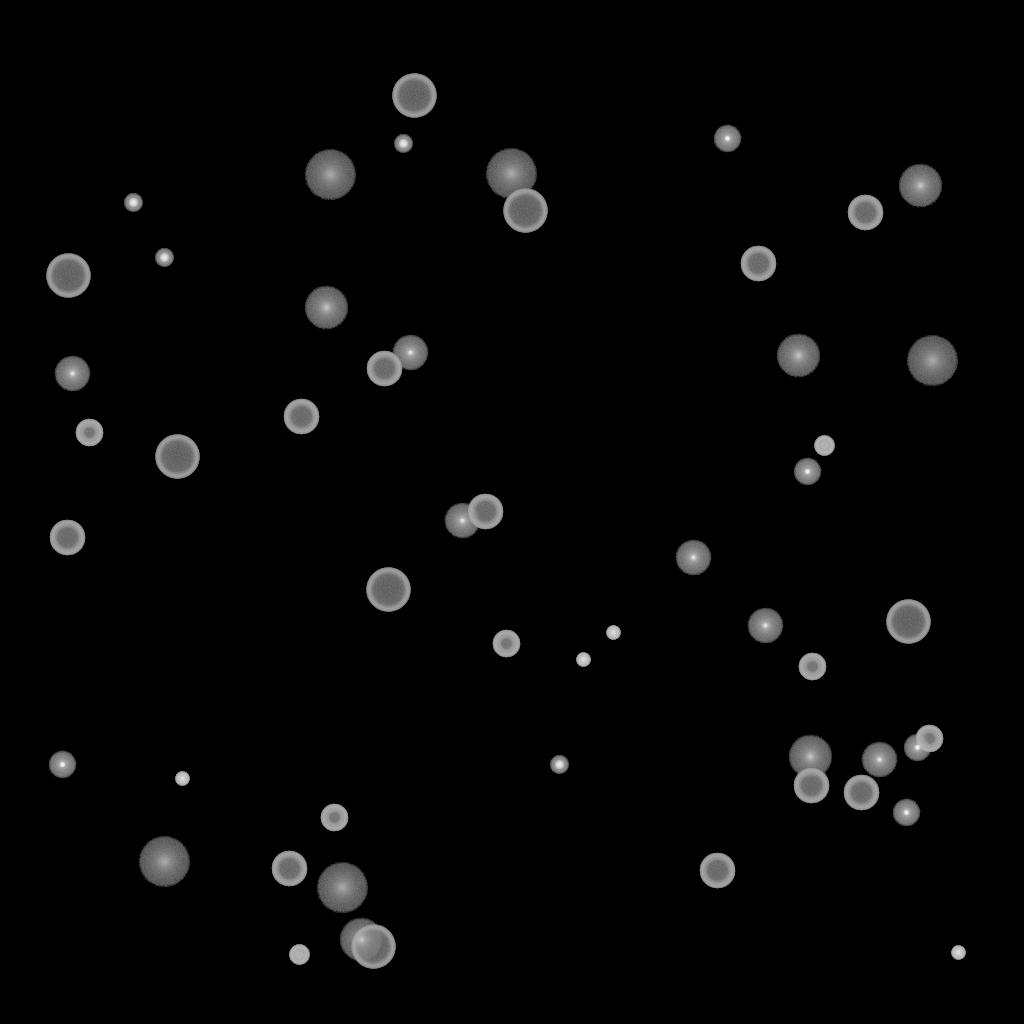depth:-10: (892, 799, 920, 827), (48, 751, 76, 779), (793, 458, 821, 486), (713, 125, 741, 153), (903, 734, 931, 762)
depth:-20: (394, 135, 412, 153), (550, 756, 568, 774), (124, 194, 142, 212), (155, 249, 173, 267)
depth:-30: (606, 626, 620, 640), (175, 772, 189, 786), (951, 946, 965, 960), (576, 653, 590, 667)
depth:-40: (289, 945, 309, 965), (814, 436, 834, 456)
depth:-50: (75, 419, 103, 447), (915, 725, 943, 753), (798, 653, 826, 681), (492, 630, 520, 658), (320, 804, 348, 832)
depth:-60: (271, 851, 307, 887), (467, 494, 503, 530), (699, 853, 735, 889), (793, 768, 829, 804), (49, 520, 85, 556), (843, 775, 879, 811), (283, 399, 319, 435), (366, 351, 402, 387), (740, 246, 776, 282), (847, 195, 883, 231)
depth:-70: (155, 435, 199, 479), (392, 74, 436, 118), (46, 254, 90, 298), (886, 600, 930, 644), (351, 925, 395, 969), (366, 568, 410, 612), (503, 189, 547, 233)
depth:0: (392, 335, 428, 371), (444, 503, 480, 539), (747, 608, 783, 644), (675, 540, 711, 576), (861, 742, 897, 778), (54, 356, 90, 392)
depth:10: (788, 735, 832, 779), (898, 164, 942, 208), (339, 918, 383, 962), (776, 334, 820, 378), (304, 286, 348, 330)
depth:20: (906, 336, 958, 386), (304, 150, 356, 200), (138, 837, 190, 887), (485, 149, 537, 199), (316, 863, 368, 913)
